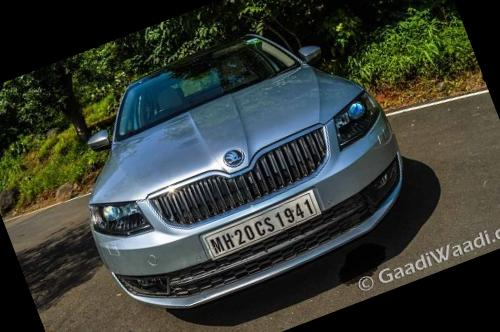plate: (185, 176, 341, 278)
